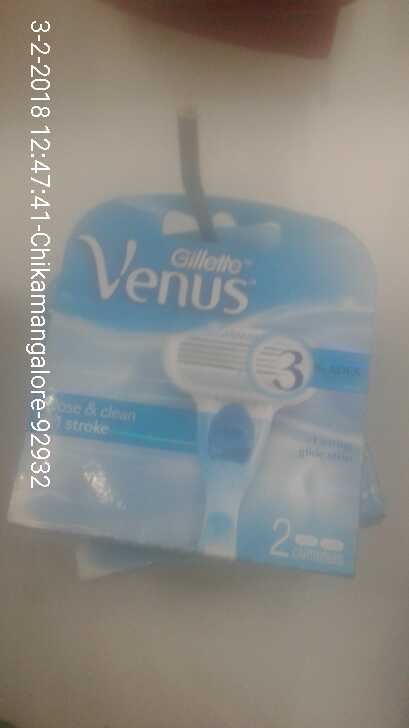beauty: (32, 204, 367, 567)
